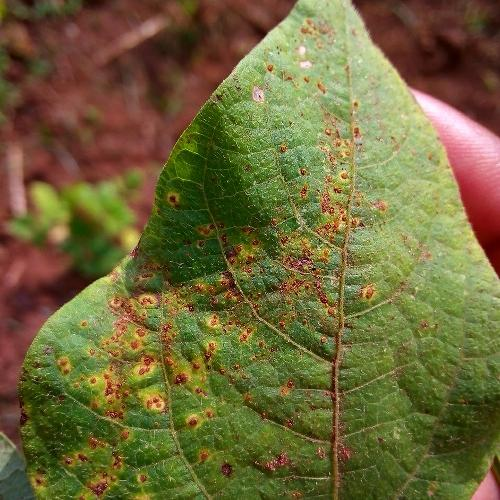hawar: (53, 64, 374, 500), (271, 9, 350, 61)
